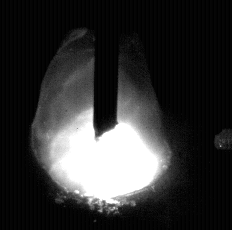arame: (95, 0, 119, 139)
poca: (31, 0, 167, 230)
